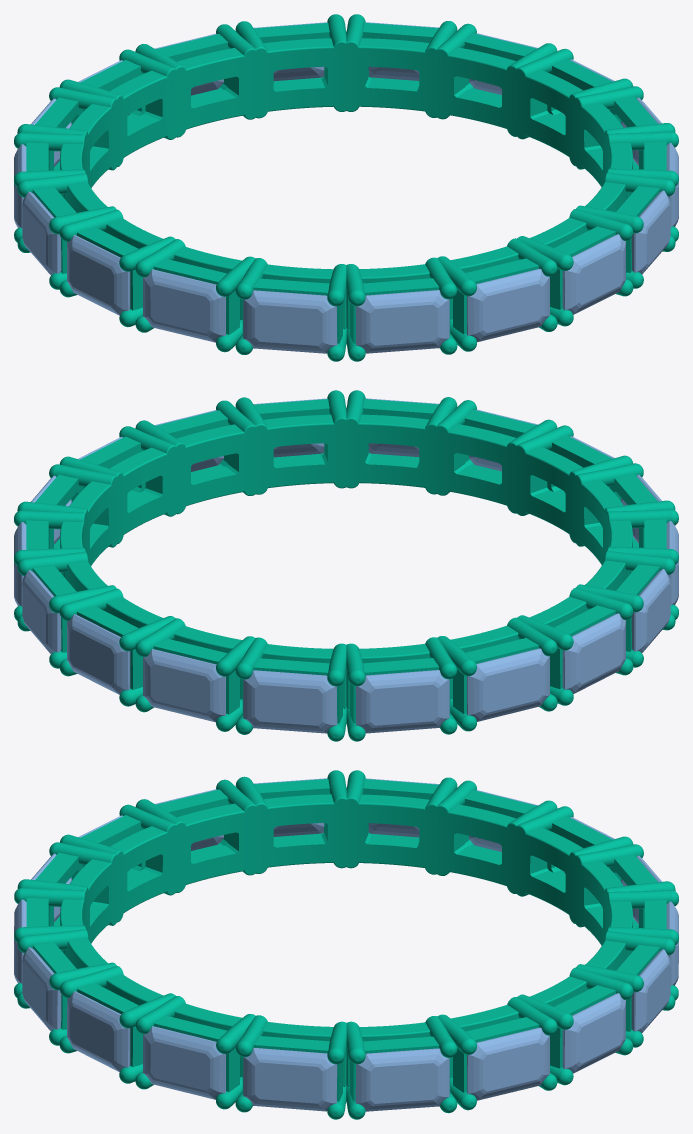
The picture shows the model from 3 angles, top to bottom: view 1: azimuth 30°, elevation 25°; view 2: azimuth 150°, elevation 25°; view 3: azimuth 270°, elevation 25°; orthographic projection.
Visible parts, largest first — view 1: Bezel (×36), Diamond_Emerald (×12), EMERALD BAND SIZE - M - 2(base).3dm; view 2: Bezel (×36), Diamond_Emerald (×12), EMERALD BAND SIZE - M - 2(base).3dm; view 3: Bezel (×36), Diamond_Emerald (×12), EMERALD BAND SIZE - M - 2(base).3dm.
Part boxes in pixels (<box>): Bezel (×36): <box>26,22,666,343</box>; Diamond_Emerald (×12): <box>14,22,678,353</box>; EMERALD BAND SIZE - M - 2(base).3dm: <box>14,14,678,361</box>; Bezel (×36): <box>26,399,666,723</box>; Diamond_Emerald (×12): <box>14,398,678,733</box>; EMERALD BAND SIZE - M - 2(base).3dm: <box>14,390,678,741</box>; Bezel (×36): <box>26,779,666,1101</box>; Diamond_Emerald (×12): <box>14,778,678,1111</box>; EMERALD BAND SIZE - M - 2(base).3dm: <box>14,770,678,1119</box>.
Size of the model in its own units: 2.83 by 0.3408 by 2.81.
